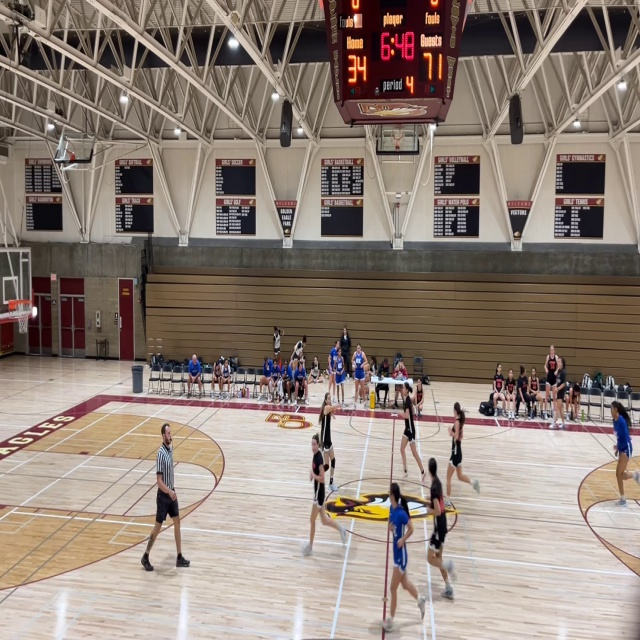Basketball: (633, 470, 640, 484)
